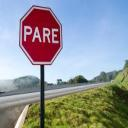Pare: (18, 6, 64, 66)
